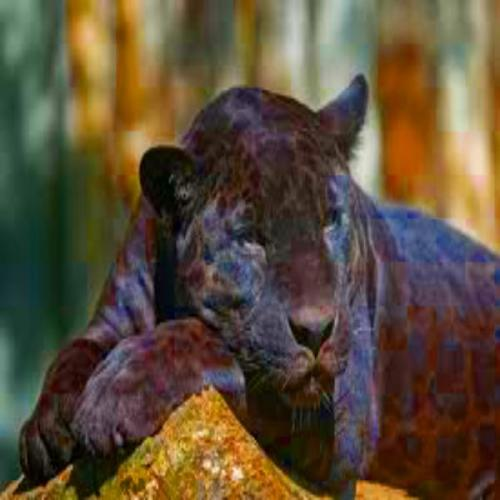panther-endangered: (22, 72, 500, 492)
